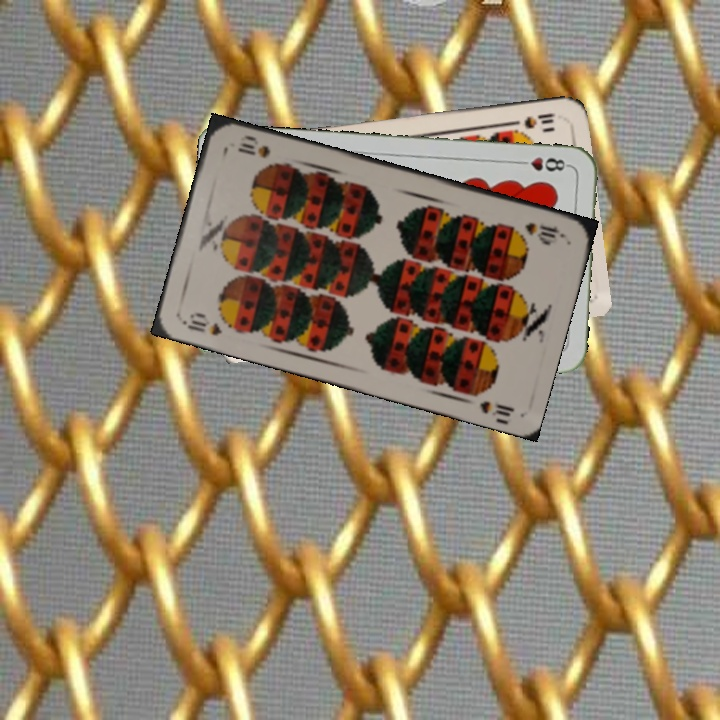H8: (513, 153, 572, 174)
S10: (179, 308, 224, 338), (505, 109, 558, 132), (521, 218, 567, 244)
